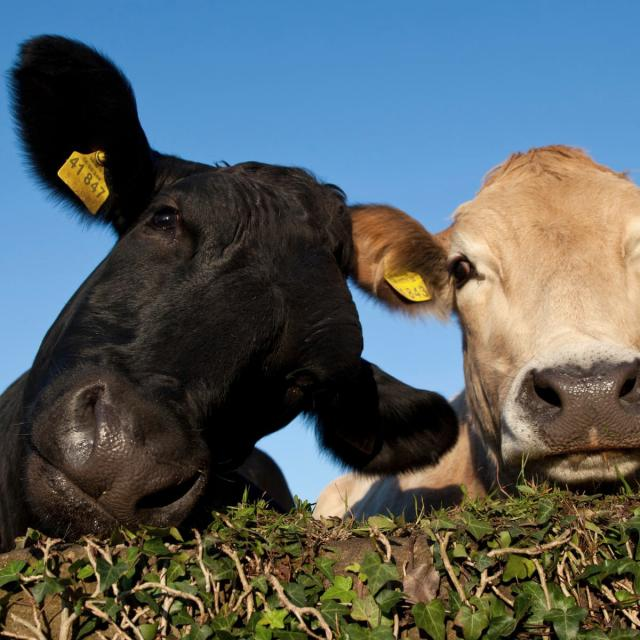cow: (0, 35, 458, 551), (315, 145, 639, 518)
